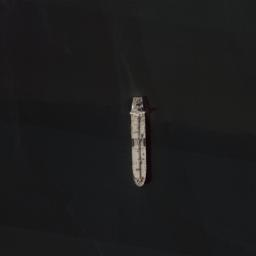boat: (128, 95, 148, 187)
